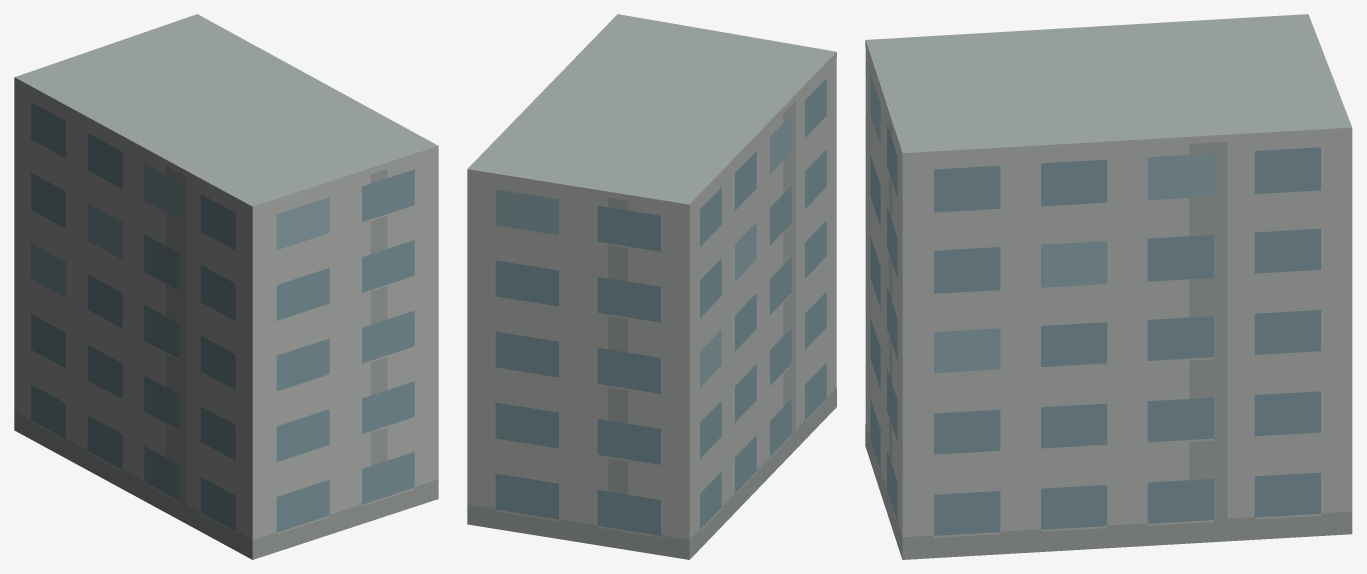
File: survey-upis-32703737.glb
3 renders of one model, left to right at view 1: azimuth 30°, elevation 25°; view 2: azimuth 150°, elevation 25°; view 3: azimuth 270°, elevation 25°, orthographic. The views are drawn at different scales.
Parts seen in each view (by area): view 1: survey-upis-32703737.tmp; view 2: survey-upis-32703737.tmp; view 3: survey-upis-32703737.tmp.
Part boxes in pixels (box(x1,y1,x2,y2)): survey-upis-32703737.tmp: box(14, 14, 438, 559); survey-upis-32703737.tmp: box(467, 14, 836, 559); survey-upis-32703737.tmp: box(865, 14, 1352, 559).
Bounding box in the file's own units: 10.22 × 13.9 × 15.09.
